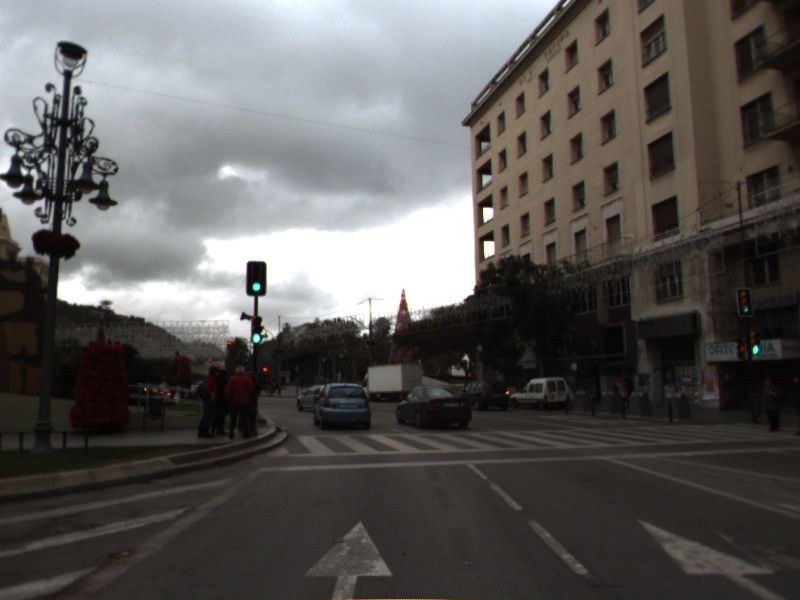STRAIGHT: (631, 514, 793, 600), (299, 516, 397, 600)
